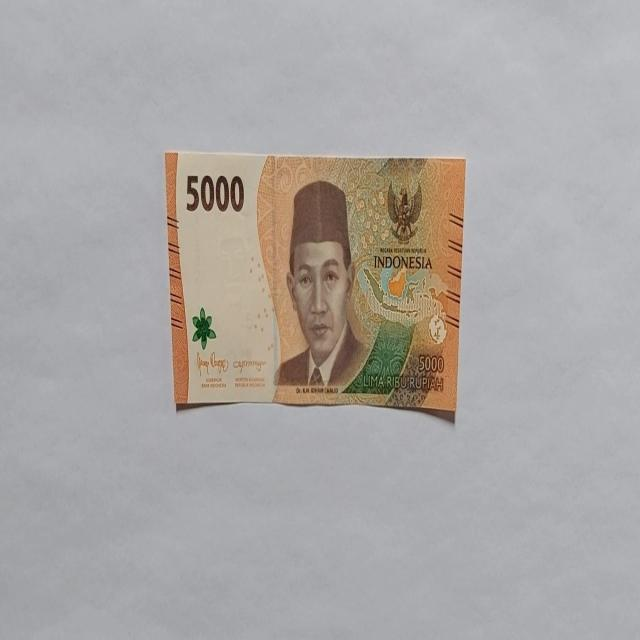lima ribu rupiah: (164, 150, 466, 420), (272, 178, 369, 392)
